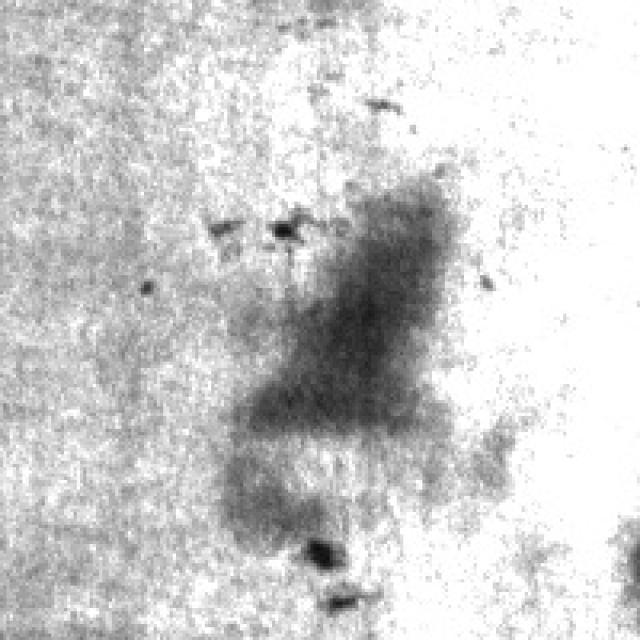patches: (246, 186, 452, 442)
